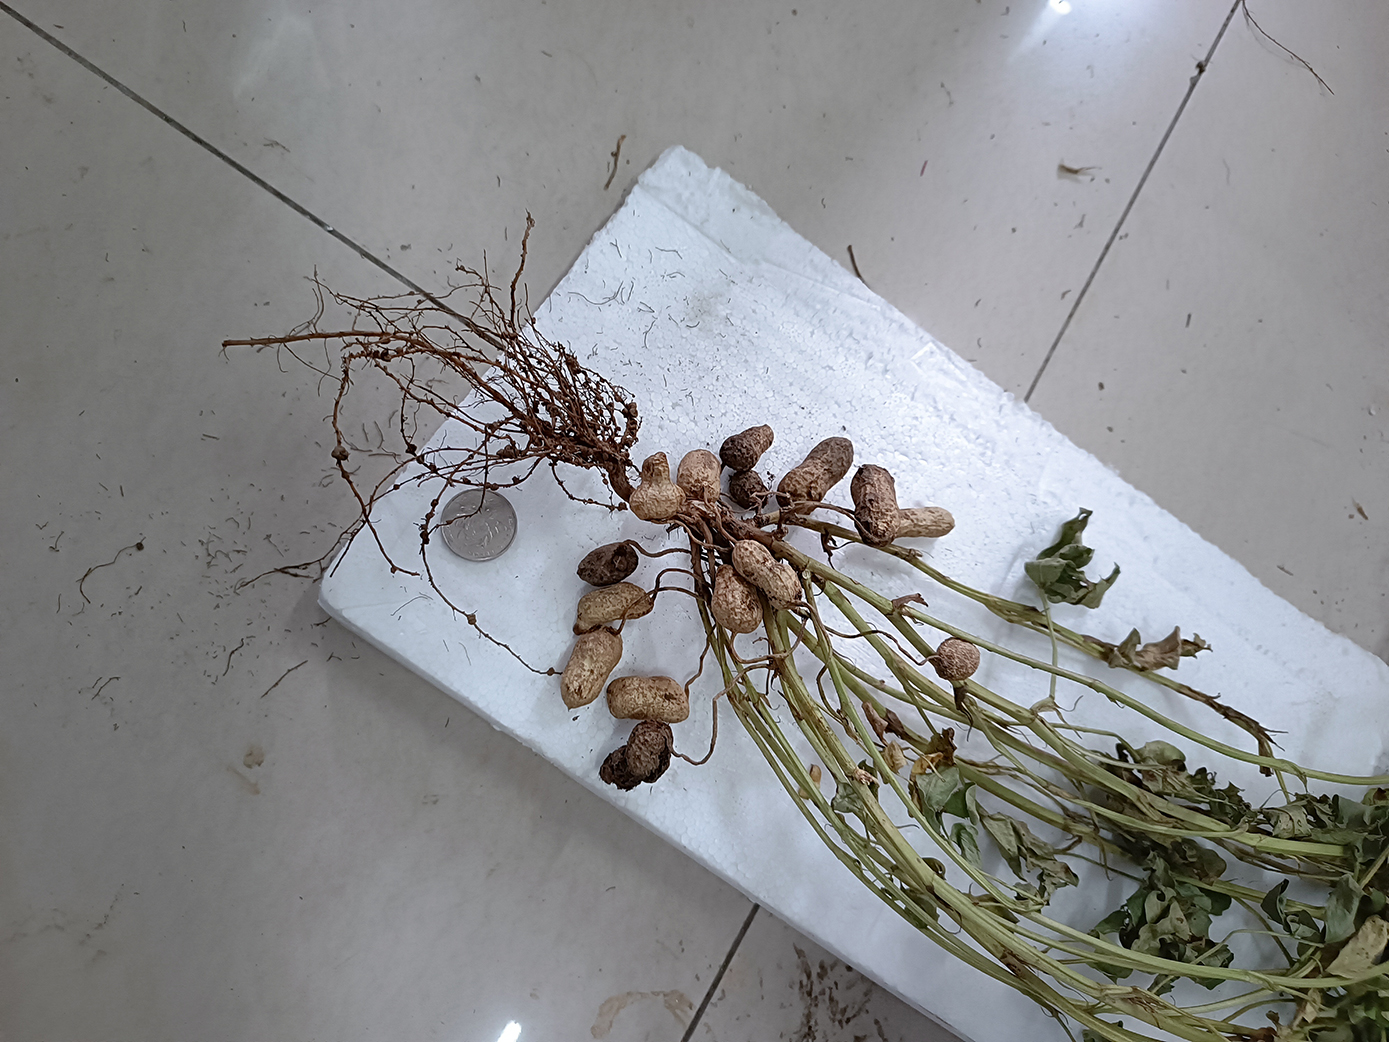h: (563, 628, 625, 709), (732, 539, 801, 611), (609, 674, 691, 726), (627, 451, 685, 523), (572, 583, 653, 632), (710, 563, 759, 633), (678, 444, 722, 502), (893, 508, 956, 540), (934, 637, 980, 680)
l: (777, 437, 854, 516), (603, 722, 678, 794), (850, 462, 900, 545), (578, 540, 641, 587), (721, 422, 775, 471), (728, 468, 764, 508)
